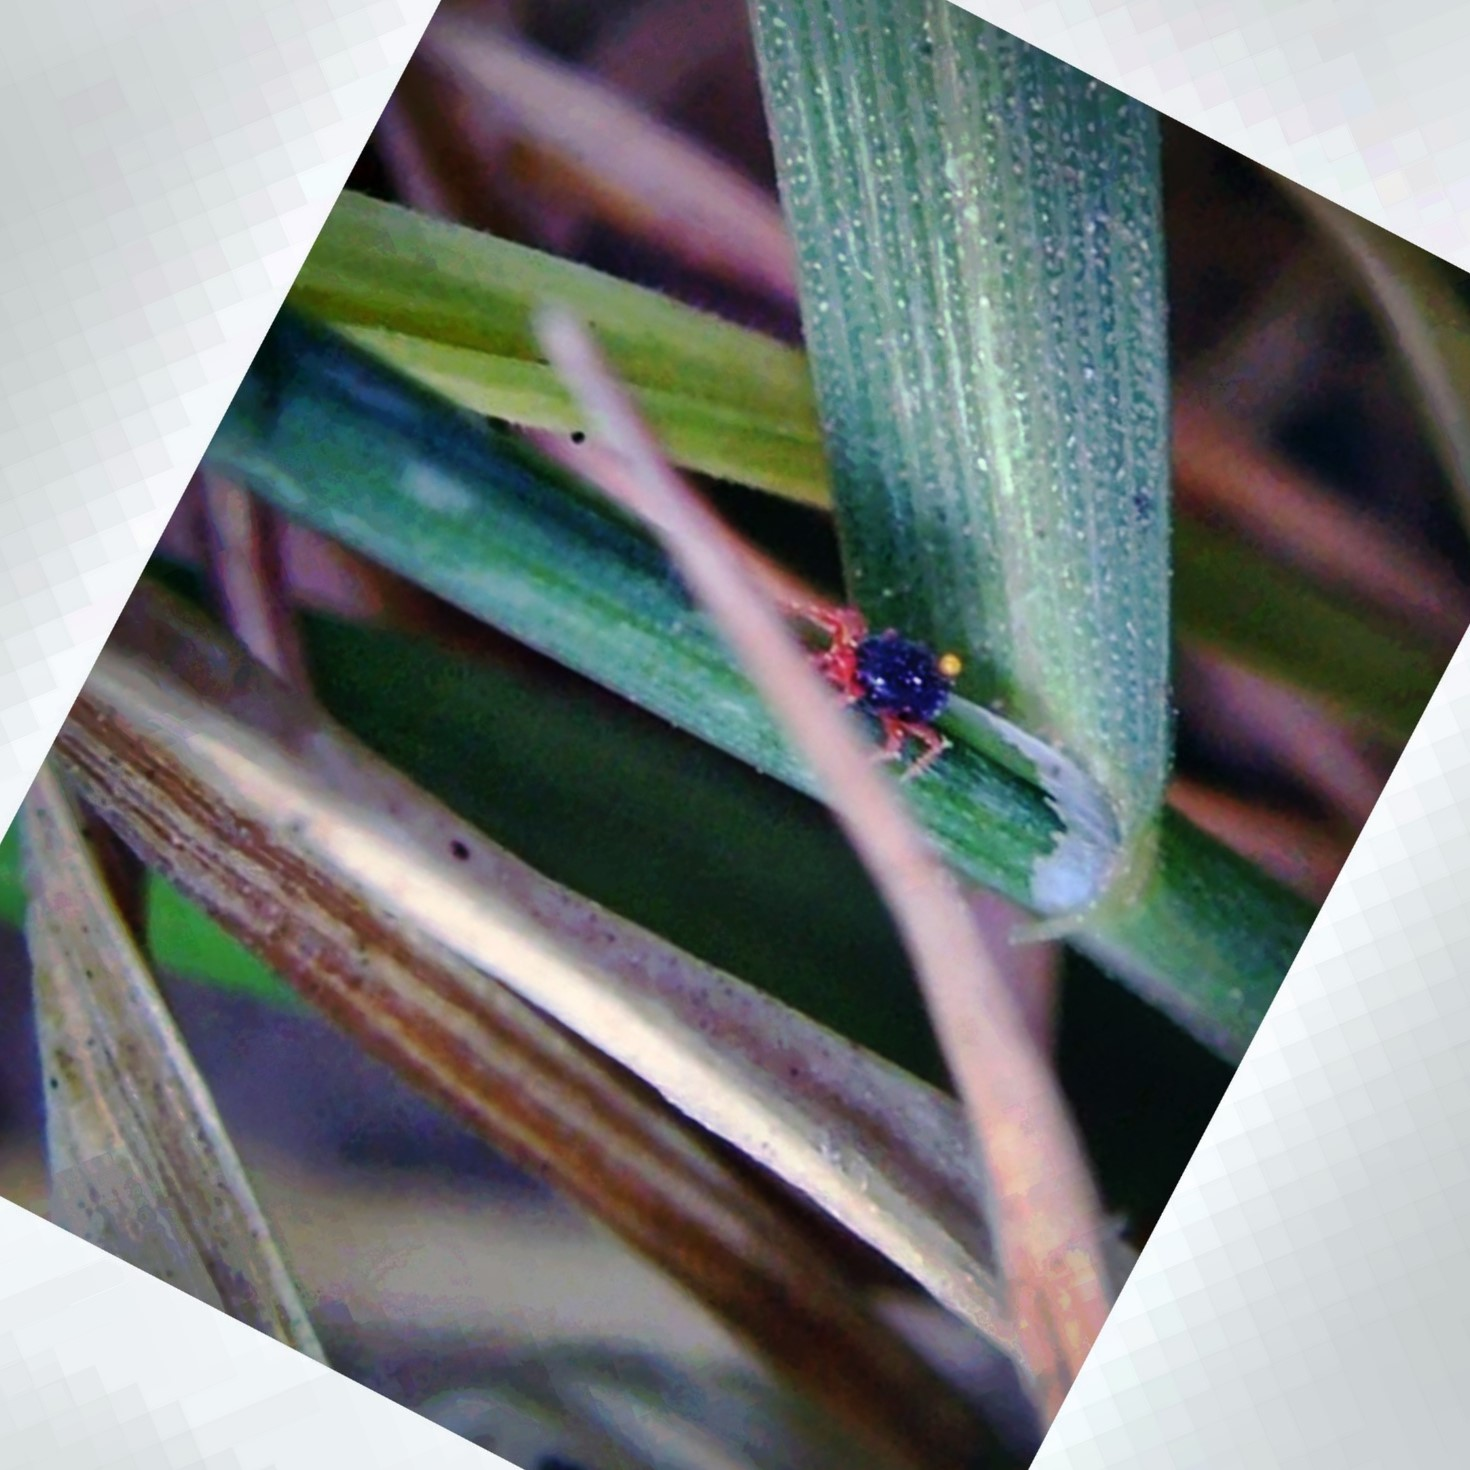Wheat Red Spider: (779, 582, 964, 779)
